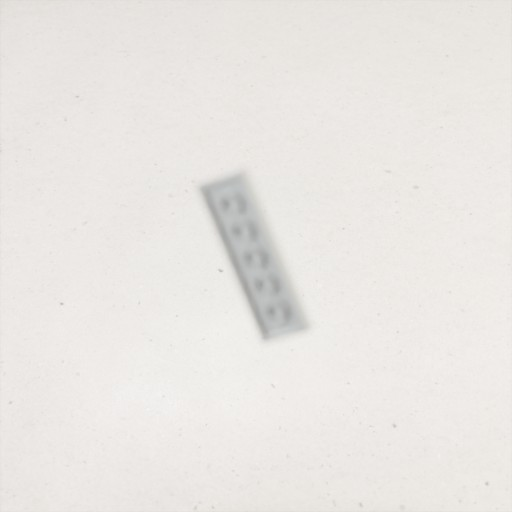lego: (194, 166, 315, 345)
